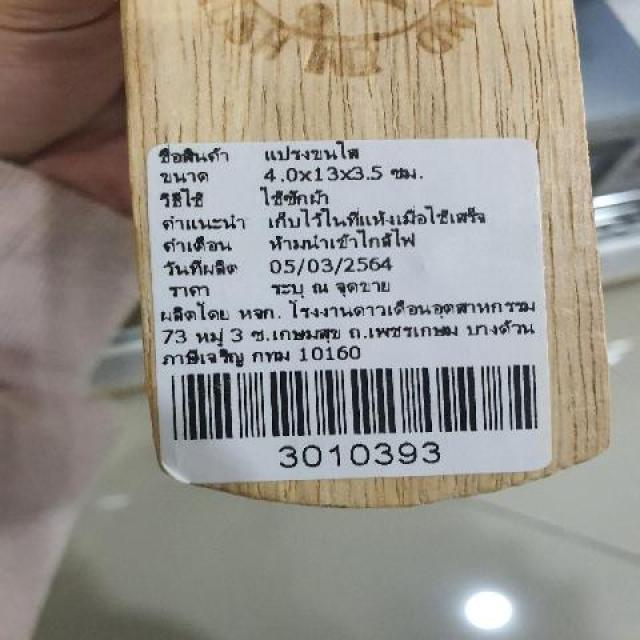Barcode: (164, 358, 543, 471)
